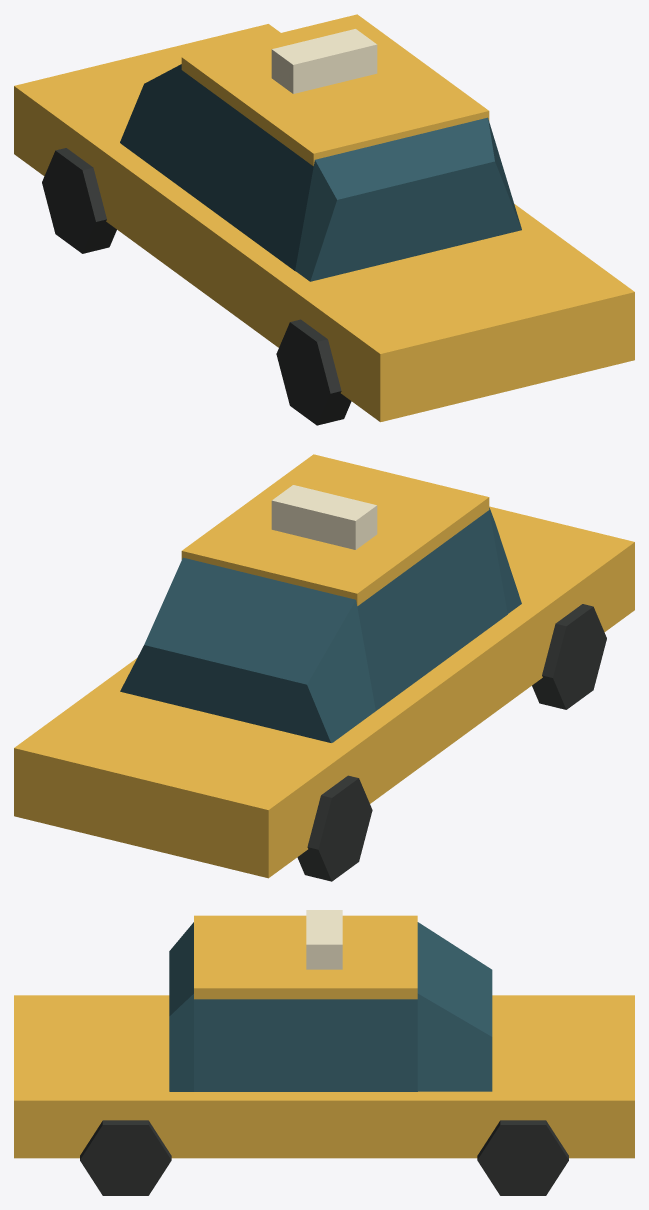
Rendered from taxi_far.glb.
3 renders of one model, top to bottom at view 1: azimuth 30°, elevation 25°; view 2: azimuth 150°, elevation 25°; view 3: azimuth 270°, elevation 25°, orthographic. The views are drawn at different scales.
Visible parts, largest first — view 1: TaxiModel traffic_gold, Supported cabin glazing, TaxiModel traffic_rubber, Taxi roof sign; view 2: TaxiModel traffic_gold, Supported cabin glazing, TaxiModel traffic_rubber, Taxi roof sign; view 3: TaxiModel traffic_gold, Supported cabin glazing, TaxiModel traffic_rubber, Taxi roof sign.
Part boxes in pixels (x1=…): TaxiModel traffic_gold: x1=14, y1=14, x2=634, y2=422; Supported cabin glazing: x1=120, y1=64, x2=521, y2=281; TaxiModel traffic_rubber: x1=42, y1=148, x2=351, y2=425; Taxi roof sign: x1=271, y1=29, x2=377, y2=93; TaxiModel traffic_gold: x1=14, y1=454, x2=634, y2=878; Supported cabin glazing: x1=120, y1=507, x2=521, y2=742; TaxiModel traffic_rubber: x1=297, y1=604, x2=606, y2=881; Taxi roof sign: x1=271, y1=485, x2=377, y2=549; TaxiModel traffic_gold: x1=14, y1=915, x2=634, y2=1158; Supported cabin glazing: x1=169, y1=922, x2=492, y2=1091; TaxiModel traffic_rubber: x1=80, y1=1120, x2=568, y2=1195; Taxi roof sign: x1=306, y1=910, x2=342, y2=969.
Bounding box in the file's own units: 2.07 × 1.78 × 4.75.
